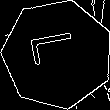L_E: (29, 34, 86, 75)
